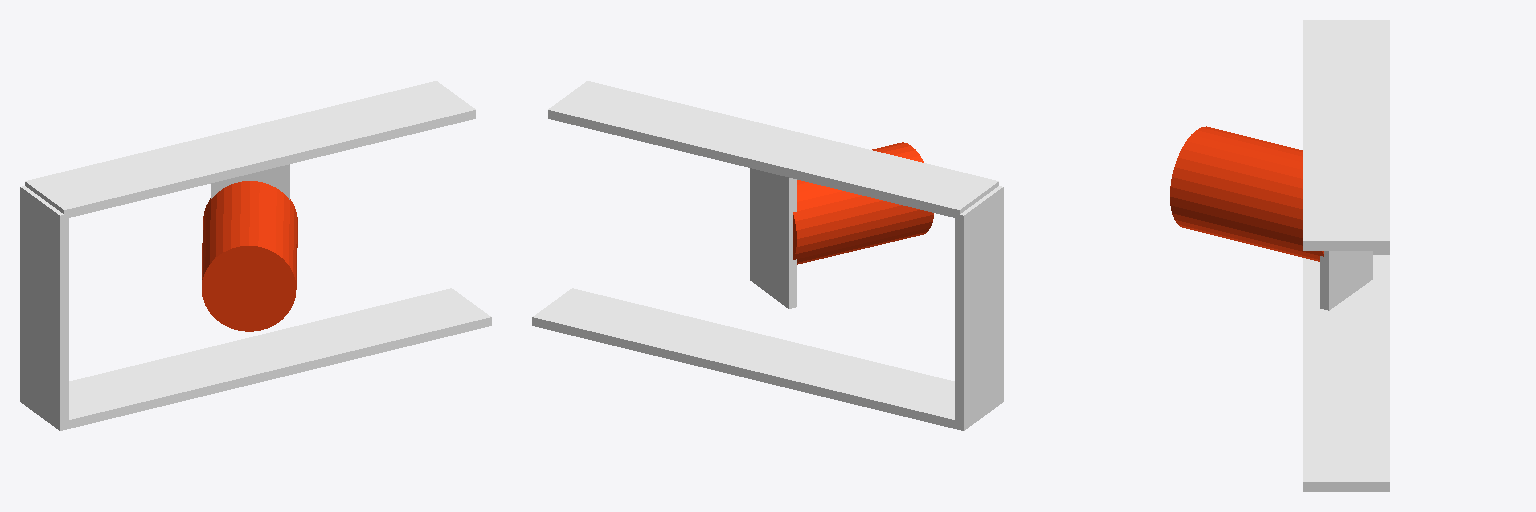
The robot description file, URDF, robot "seastar":
<?xml version="1.0" ?>
<!-- =================================================================================== -->
<!-- |    This document was autogenerated by xacro from seastar.urdf.xacro             | -->
<!-- |    EDITING THIS FILE BY HAND IS NOT RECOMMENDED                                 | -->
<!-- =================================================================================== -->
<robot name="seastar">
  <material name="white">
    <color rgba="1 1 1 1"/>
  </material>
  <material name="orange">
    <color rgba="1 0.3 0.1 1"/>
  </material>
  <material name="blue">
    <color rgba="0.2 0.2 1 1"/>
  </material>
  

!-- the IMU is fixed to the base of the robot --&gt;

  <link name="imu_link"/>
  <joint name="imu_to_base" type="fixed">
    <parent link="imu_link"/>
    <child link="base_link"/>
    <origin rpy="0 0 3.141592653589793" xyz="0 0 0"/>
  </joint>
  <link name="base_link">
    <visual>
      <origin rpy="0 0 0" xyz="0 0 0.0062"/>
      <geometry>
        <box size="0.6223 0.1 0.0124"/>
      </geometry>
      <material name="white"/>
    </visual>
    <collision>
      <origin rpy="0 0 0" xyz="0.31115 0.05 0.0062"/>
      <geometry>
        <box size="0.6223 0.1 0.0124"/>
      </geometry>
    </collision>
    <inertial>
      <origin rpy="0 0 0" xyz="0.31115 0.05 0.0062"/>
      <mass value="0.5"/>
      <inertia ixx="0.00042307333333333337" ixy="0.0" ixz="0.0" iyy="0.016142127083333332" iyz="0.0" izz="0.01655238708333333"/>
    </inertial>
  </link>
  <!-- base to upright -->
  <joint name="base_to_upright1_joint" type="fixed">
    <parent link="base_link"/>
    <child link="upright1_link"/>
    <origin rpy="0 -1.5707963267948966 0" xyz="0.31115 0 0"/>
  </joint>
  <link name="upright1_link">
    <visual>
      <origin rpy="0 0 0" xyz="0.15 0 0"/>
      <geometry>
        <box size="0.3 0.1 0.0125"/>
      </geometry>
      <material name="white"/>
    </visual>
    <collision>
      <origin rpy="0 0 0" xyz="0.15 0 0"/>
      <geometry>
        <box size="0.3 0.1 0.0125"/>
      </geometry>
    </collision>
    <inertial>
      <origin rpy="0 0 0" xyz="0.15 0 0"/>
      <mass value="0.5"/>
      <inertia ixx="0.0004231770833333334" ixy="0.0" ixz="0.0" iyy="0.0037565104166666662" iyz="0.0" izz="0.004166666666666667"/>
    </inertial>
  </link>
  <!-- upright to roll -->
  <joint name="upright1_to_roll_joint" type="revolute">
    <parent link="upright1_link"/>
    <child link="roll_link"/>
    <origin rpy="0 -1.5707963267948966 0" xyz="0.3 0 0"/>
    <axis xyz="1 0 0"/>
    <limit effort="100" lower="-3.64774" upper="0.558505" velocity="100"/>
  </joint>
  <link name="roll_link">
    <visual>
      <origin rpy="0 0 0" xyz="0.3 0 0"/>
      <geometry>
        <box size="0.6 0.1 0.0125"/>
      </geometry>
      <material name="white"/>
    </visual>
    <collision>
      <origin rpy="0 0 0" xyz="0.3 0 0"/>
      <geometry>
        <box size="0.6 0.1 0.0125"/>
      </geometry>
    </collision>
    <inertial>
      <origin rpy="0 0 0" xyz="0.3 0 0"/>
      <mass value="0.5"/>
      <inertia ixx="0.0004231770833333334" ixy="0.0" ixz="0.0" iyy="0.015006510416666667" iyz="0.0" izz="0.015416666666666665"/>
    </inertial>
  </link>
  <!-- roll to pitch-->
  <joint name="roll_to_pitch_joint" type="revolute">
    <parent link="roll_link"/>
    <child link="pitch_link"/>
    <origin rpy="0 -1.5707963267948966 0" xyz="0.3 0 0"/>
    <axis xyz="1 0 0"/>
    <limit effort="100" lower="3.141592653589793" upper="7.34784" velocity="100"/>
  </joint>
  <link name="pitch_link">
    <visual>
      <origin rpy="0 0 0" xyz="0.1 0 0"/>
      <geometry>
        <box size="0.2 0.1 0.0125"/>
      </geometry>
      <material name="white"/>
    </visual>
    <collision>
      <origin rpy="0 0 0" xyz="0.1 0 0"/>
      <geometry>
        <box size="0.2 0.1 0.0125"/>
      </geometry>
    </collision>
    <inertial>
      <origin rpy="0 0 0" xyz="0.1 0 0"/>
      <mass value="0.5"/>
      <inertia ixx="0.0004231770833333334" ixy="0.0" ixz="0.0" iyy="0.0016731770833333334" iyz="0.0" izz="0.0020833333333333337"/>
    </inertial>
  </link>
  <!-- pitch to stokes -->
  <joint name="pitch_to_stokes_joint" type="revolute">
    <parent link="pitch_link"/>
    <child link="stokes_link"/>
    <origin rpy="0 -1.5707963267948966 0" xyz="0.1 0 0"/>
    <axis xyz="1 0 0"/>
    <limit effort="100" lower="-3.141592653589793" upper="3.141592653589793" velocity="100"/>
  </joint>
  <link name="stokes_link">
    <visual>
      <origin rpy="0 1.5707963267948966 0" xyz="0.1 0 0"/>
      <geometry>
        <cylinder length="0.2" radius="0.06"/>
      </geometry>
      <material name="orange"/>
    </visual>
    <collision>
      <origin rpy="0 0 0" xyz="0.1 0 0"/>
      <geometry>
        <cylinder length="0.2" radius="0.06"/>
      </geometry>
    </collision>
    <inertial>
      <origin rpy="0 0 0" xyz="0.1 0 0"/>
      <mass value="0.5"/>
      <inertia ixx="0.002116666666666667" ixy="0.0" ixz="0.0" iyy="0.002116666666666667" iyz="0.0" izz="0.0009"/>
    </inertial>
  </link>
</robot>

--- Facts derived from the render (not from the file) ---
3 views of the same robot in one strip: view 1: azimuth 30°, elevation 25°; view 2: azimuth 150°, elevation 25°; view 3: azimuth 270°, elevation 25° (orthographic).
Robot: seastar — 6 links, 5 joints (3 revolute, 2 fixed); root link imu_link; default pose: joints at zero except 1 at the middle of their limits (roll_to_pitch_joint = 5.24).
Links seen in each view (by area): view 1: roll_link, base_link, stokes_link, upright1_link, pitch_link; view 2: roll_link, base_link, upright1_link, stokes_link, pitch_link; view 3: roll_link, base_link, stokes_link, pitch_link.
Link boxes in pixels (x1,y1,x2,y2): roll_link: [25, 81, 475, 217]; base_link: [64, 288, 491, 429]; stokes_link: [202, 181, 297, 331]; upright1_link: [20, 186, 68, 430]; pitch_link: [211, 164, 289, 199]; roll_link: [548, 81, 998, 217]; base_link: [532, 288, 959, 429]; upright1_link: [955, 186, 1003, 430]; stokes_link: [793, 142, 933, 264]; pitch_link: [750, 168, 796, 308]; roll_link: [1303, 20, 1389, 250]; base_link: [1303, 255, 1389, 491]; stokes_link: [1170, 126, 1323, 261]; pitch_link: [1320, 251, 1372, 310].
Bounding box of the posed robot: 0.6286 × 0.2528 × 0.3063 m (x, y, z).
Geometry: primitives only (box / cylinder / sphere), no mesh files.
